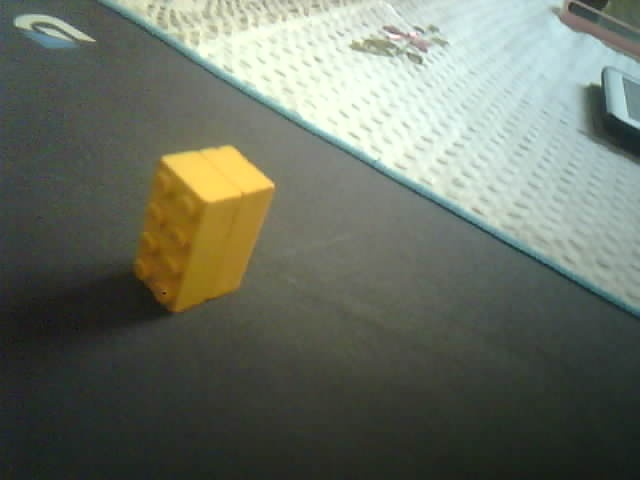lego: (131, 144, 276, 315)
